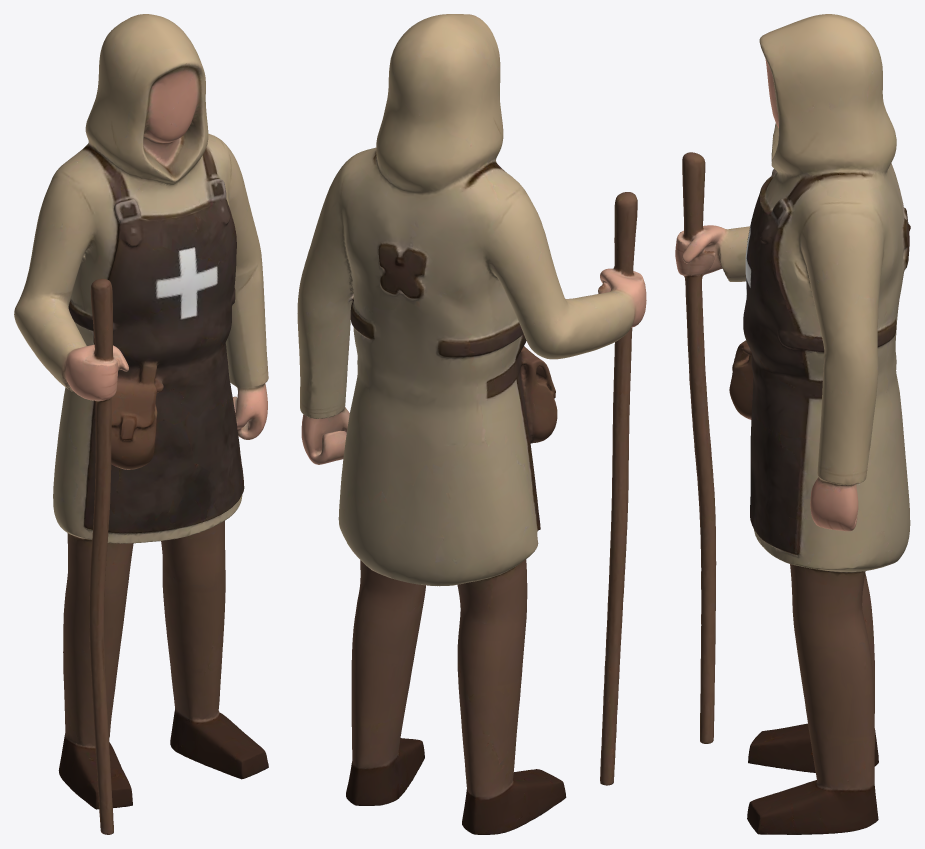
Rendered from medic.glb.
3 views of the same model, side by side, from view 1: azimuth 30°, elevation 25°; view 2: azimuth 150°, elevation 25°; view 3: azimuth 270°, elevation 25° (orthographic). The views are drawn at different scales.
Bounding box in the file's own units: 0.6901 × 1.9 × 0.522.
Materials: 1 (1 with a texture image).
